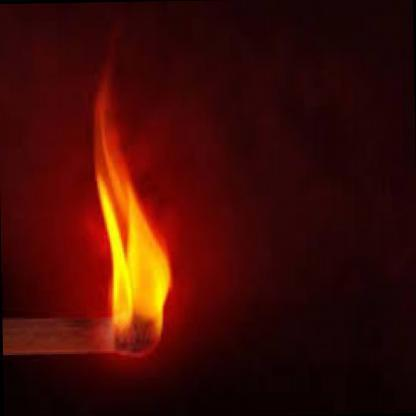Fire: (90, 85, 178, 340)
